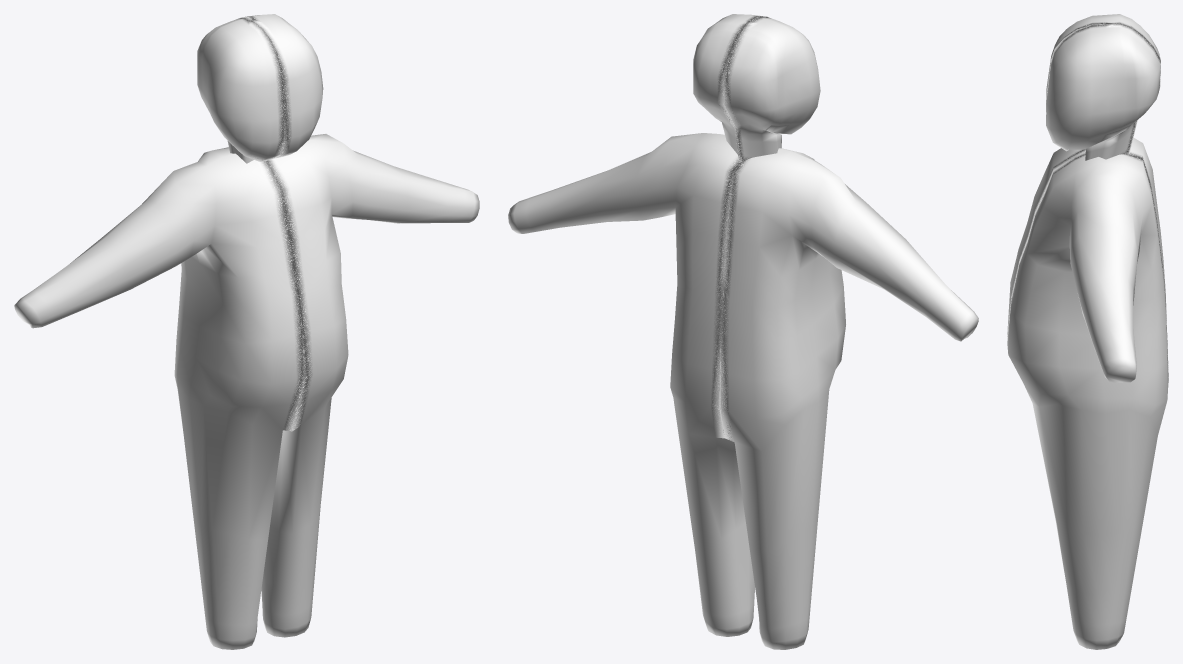
Rendered from Color_character_4.fbx.
The picture shows the model from 3 angles, left to right: view 1: azimuth 30°, elevation 25°; view 2: azimuth 150°, elevation 25°; view 3: azimuth 270°, elevation 25°; orthographic projection. The views are drawn at different scales.
Parts seen in each view (by area): view 1: Cube.001; view 2: Cube.001; view 3: Cube.001.
Boxes of the visible parts, <box> form: Cube.001: <box>14,14,479,649</box>; Cube.001: <box>508,14,978,649</box>; Cube.001: <box>1007,14,1168,649</box>.
Bounding box in the file's own units: 906 × 1152 × 279.
